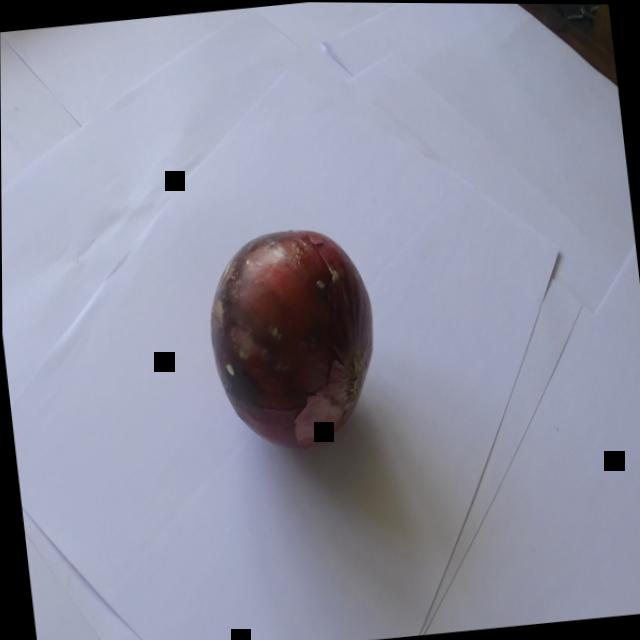Onion: (183, 198, 408, 481)
